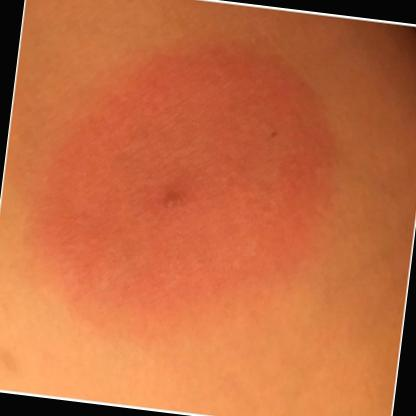Ringworm: (3, 25, 361, 392)
